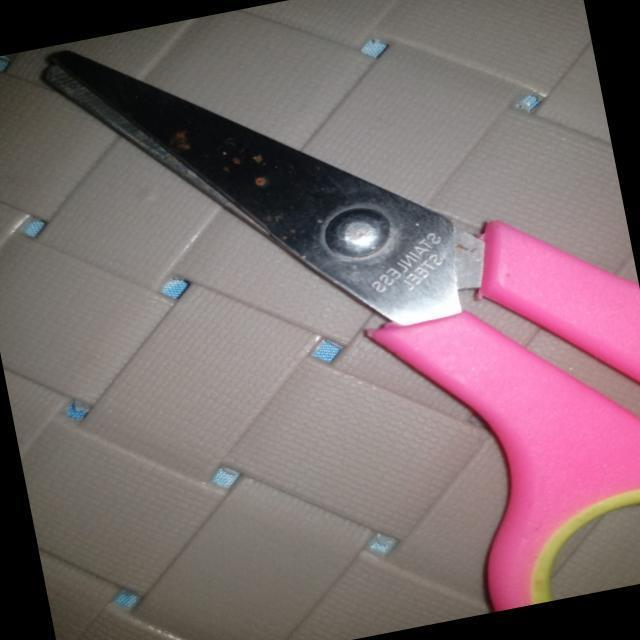scissors: (21, 0, 640, 640)
